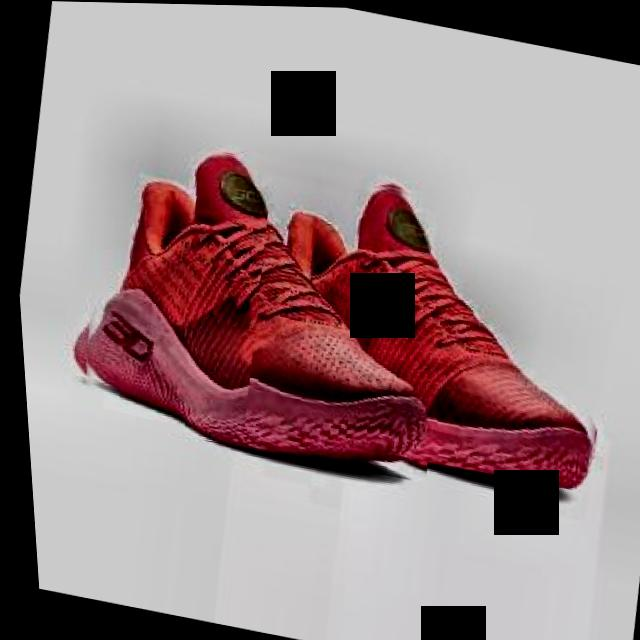shoe: (47, 125, 469, 482), (224, 160, 630, 491)
